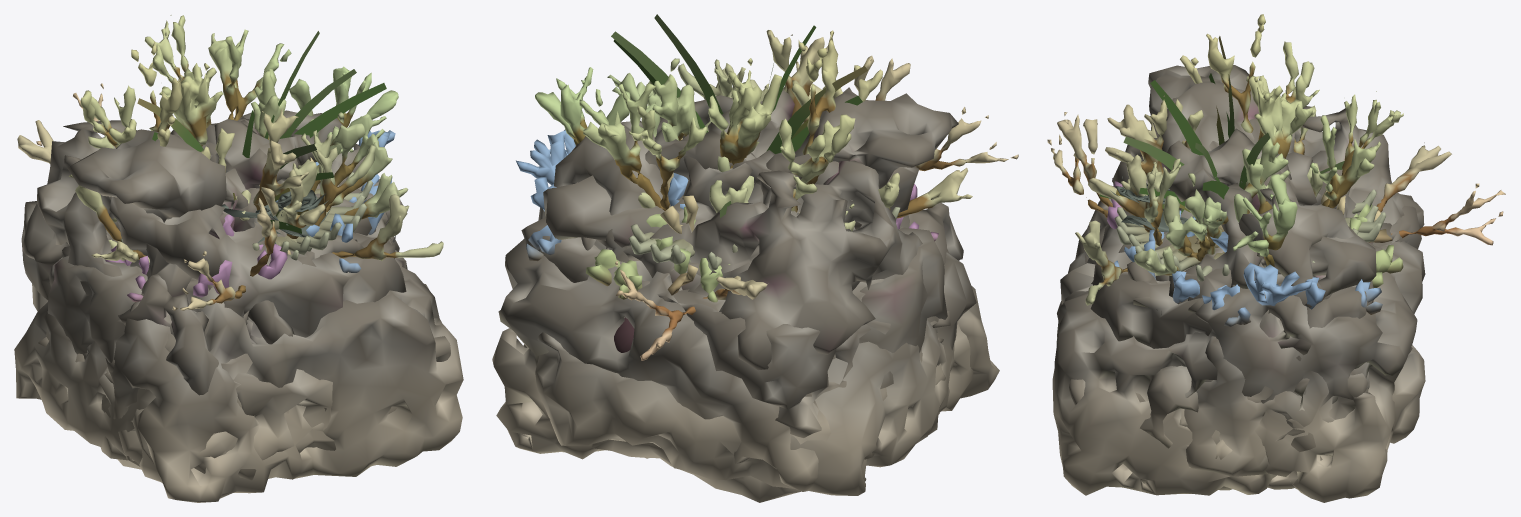
Rendered from reef-outer.glb.
The picture shows the model from 3 angles, left to right: view 1: azimuth 30°, elevation 25°; view 2: azimuth 150°, elevation 25°; view 3: azimuth 270°, elevation 25°; orthographic projection. The views are drawn at different scales.
Visible parts, largest first — view 1: OuterRock_4, OuterCoral_branching_0, OuterRock_0, OuterRock_2, OuterRock_3, OuterRock_1, OuterCoral_branching_2, OuterCoral_branching_1, OuterPlant_grass, OuterRock_5, OuterCoral_plate_0, OuterCoral_plate_2 (+1 smaller); view 2: OuterRock_2, OuterRock_4, OuterRock_3, OuterCoral_branching_0, OuterRock_1, OuterRock_0, OuterCoral_branching_2, OuterCoral_branching_1, OuterPlant_grass, OuterRock_5, OuterCoral_plate_0, OuterPlant_blade; view 3: OuterRock_4, OuterCoral_branching_0, OuterRock_2, OuterRock_0, OuterRock_1, OuterCoral_branching_2, OuterRock_5, OuterRock_3, OuterCoral_branching_1, OuterCoral_plate_0, OuterPlant_grass, OuterPlant_blade (+1 smaller).
Boxes of the visible parts, x1,y1,x2,y2 form: OuterRock_4: [109, 179, 463, 502]; OuterCoral_branching_0: [17, 15, 443, 310]; OuterRock_0: [21, 168, 450, 480]; OuterRock_2: [14, 110, 399, 473]; OuterRock_3: [22, 120, 395, 481]; OuterRock_1: [46, 117, 375, 362]; OuterCoral_branching_2: [108, 95, 408, 266]; OuterCoral_branching_1: [105, 157, 384, 301]; OuterPlant_grass: [136, 69, 386, 216]; OuterRock_5: [104, 120, 429, 383]; OuterCoral_plate_0: [121, 172, 373, 255]; OuterCoral_plate_2: [221, 190, 331, 244]; OuterRock_2: [535, 87, 958, 495]; OuterRock_4: [492, 182, 999, 502]; OuterRock_3: [606, 150, 973, 414]; OuterCoral_branching_0: [535, 30, 1018, 360]; OuterRock_1: [543, 90, 947, 481]; OuterRock_0: [521, 122, 950, 459]; OuterCoral_branching_2: [516, 79, 855, 261]; OuterCoral_branching_1: [586, 138, 938, 302]; OuterPlant_grass: [613, 14, 867, 217]; OuterRock_5: [517, 134, 943, 348]; OuterCoral_plate_0: [628, 207, 900, 270]; OuterPlant_blade: [611, 31, 808, 139]; OuterRock_4: [1052, 223, 1425, 502]; OuterCoral_branching_0: [1047, 14, 1505, 305]; OuterRock_2: [1148, 65, 1425, 476]; OuterRock_0: [1057, 118, 1421, 405]; OuterRock_1: [1161, 128, 1376, 490]; OuterCoral_branching_2: [1088, 148, 1382, 326]; OuterRock_5: [1091, 152, 1369, 459]; OuterRock_3: [1075, 106, 1424, 315]; OuterCoral_branching_1: [1107, 178, 1403, 303]; OuterCoral_plate_0: [1114, 189, 1385, 281]; OuterPlant_grass: [1116, 36, 1344, 217]; OuterPlant_blade: [1099, 106, 1269, 212].
Size of what is drawn, in the model's own units: 1.78 by 1.91 by 2.05.
